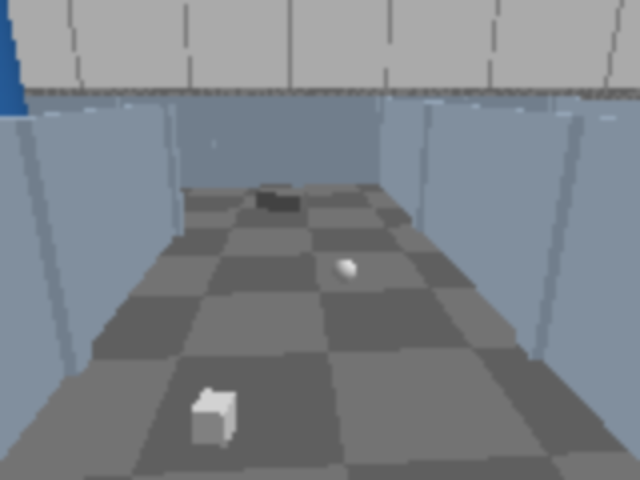obstacle: (257, 187, 308, 213)
person: (0, 0, 47, 314)
puck: (190, 389, 238, 447), (331, 255, 359, 287)
